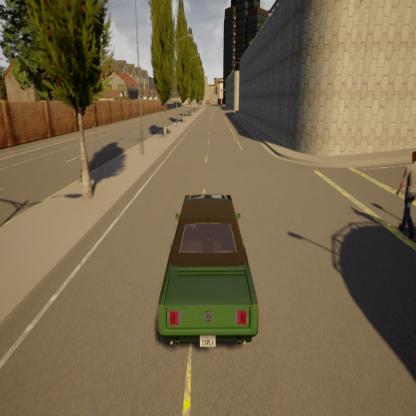Cars: (144, 181, 274, 364)
Pedestrian: (387, 146, 416, 241)
